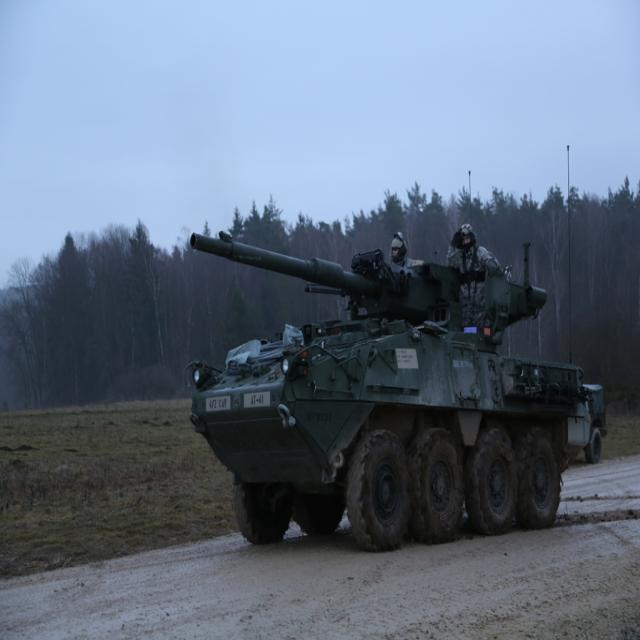tank: (180, 142, 590, 550)
